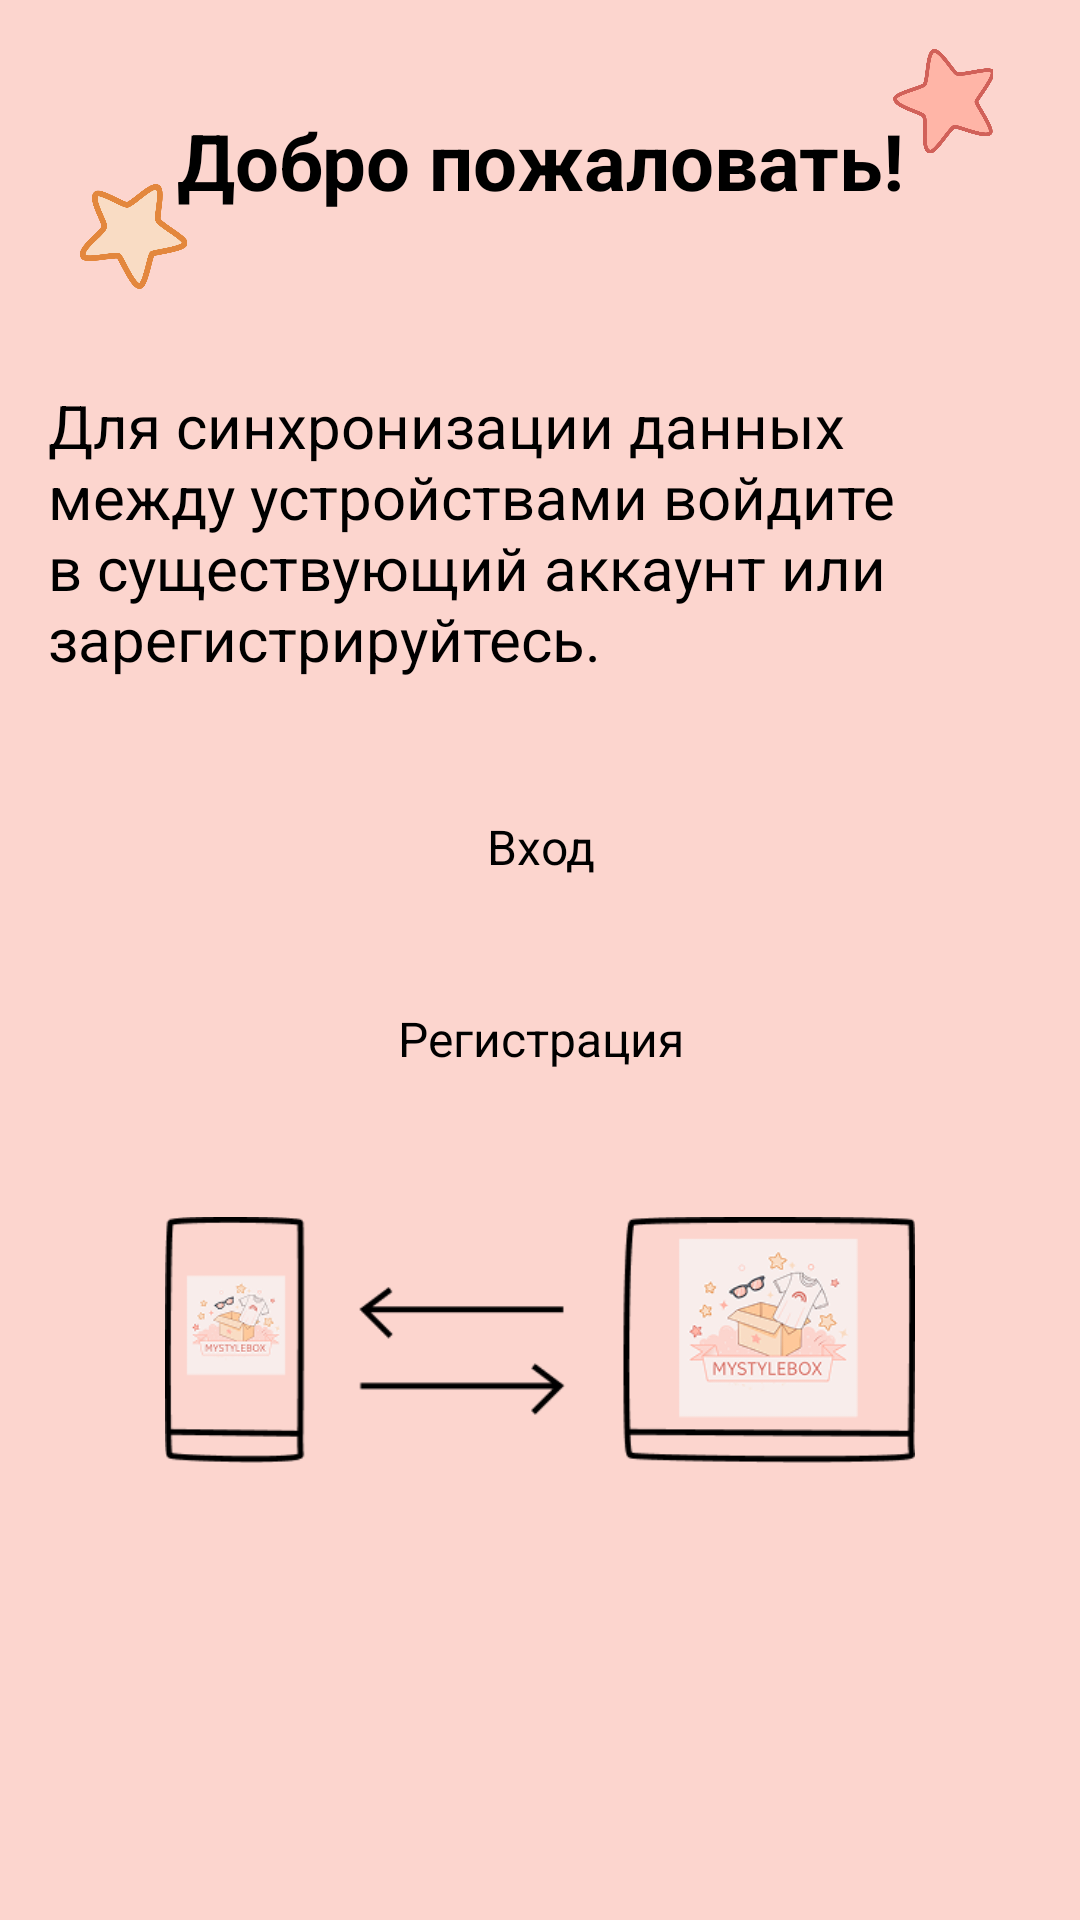

Point at icon controls on the screen. Image size 1080px×1920px, points as (x=x, y=y).
pinkstar: (x=943, y=101)
yellowstar: (x=133, y=236)
